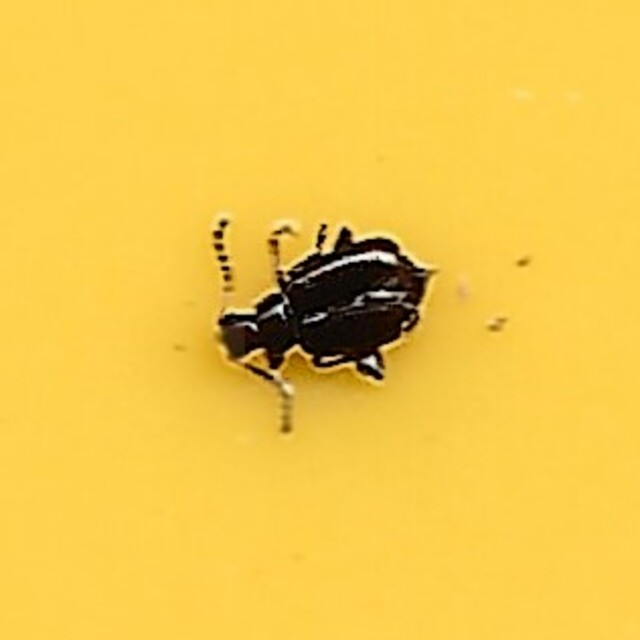Coleoptera: (203, 210, 437, 430)
